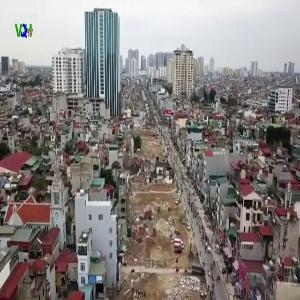drone: (250, 183, 283, 216)
